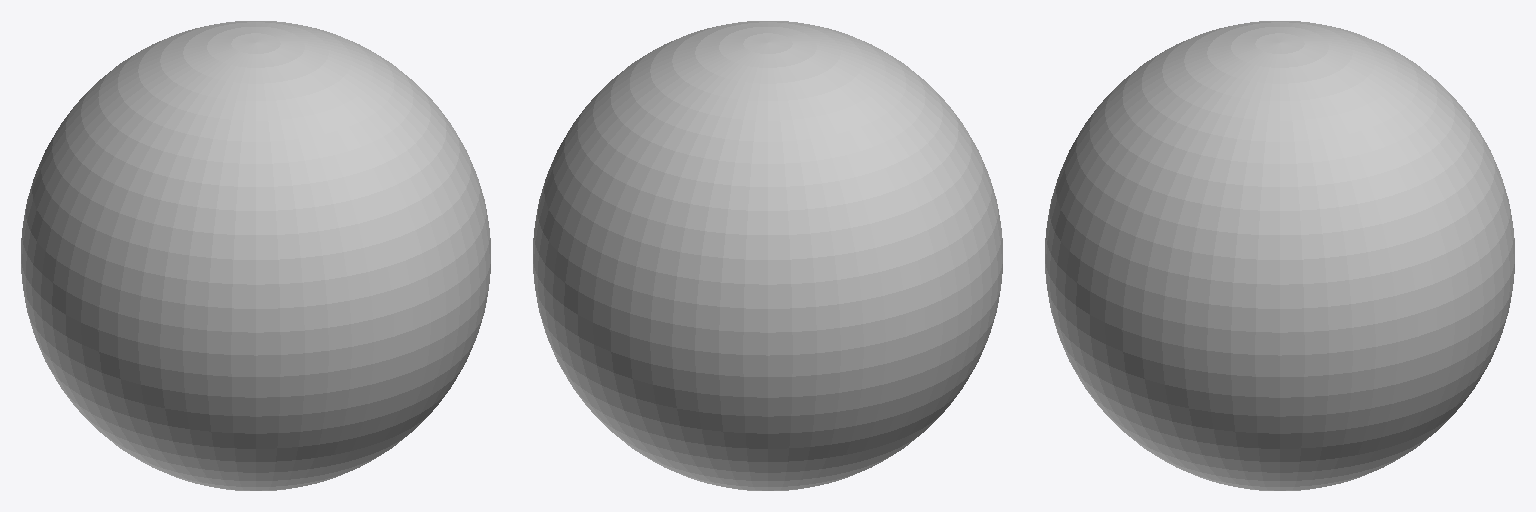
Rendered from sun.obj.
3 views of the same model, side by side, from view 1: azimuth 30°, elevation 25°; view 2: azimuth 150°, elevation 25°; view 3: azimuth 270°, elevation 25° (orthographic).
Parts seen in each view (by area): view 1: sol.001; view 2: sol.001; view 3: sol.001.
Boxes of the visible parts, x1=… form: sol.001: x1=21, y1=21, x2=490, y2=490; sol.001: x1=533, y1=21, x2=1002, y2=490; sol.001: x1=1045, y1=21, x2=1514, y2=490.
Bounding box in the file's own units: 4.18 × 4.18 × 4.18.